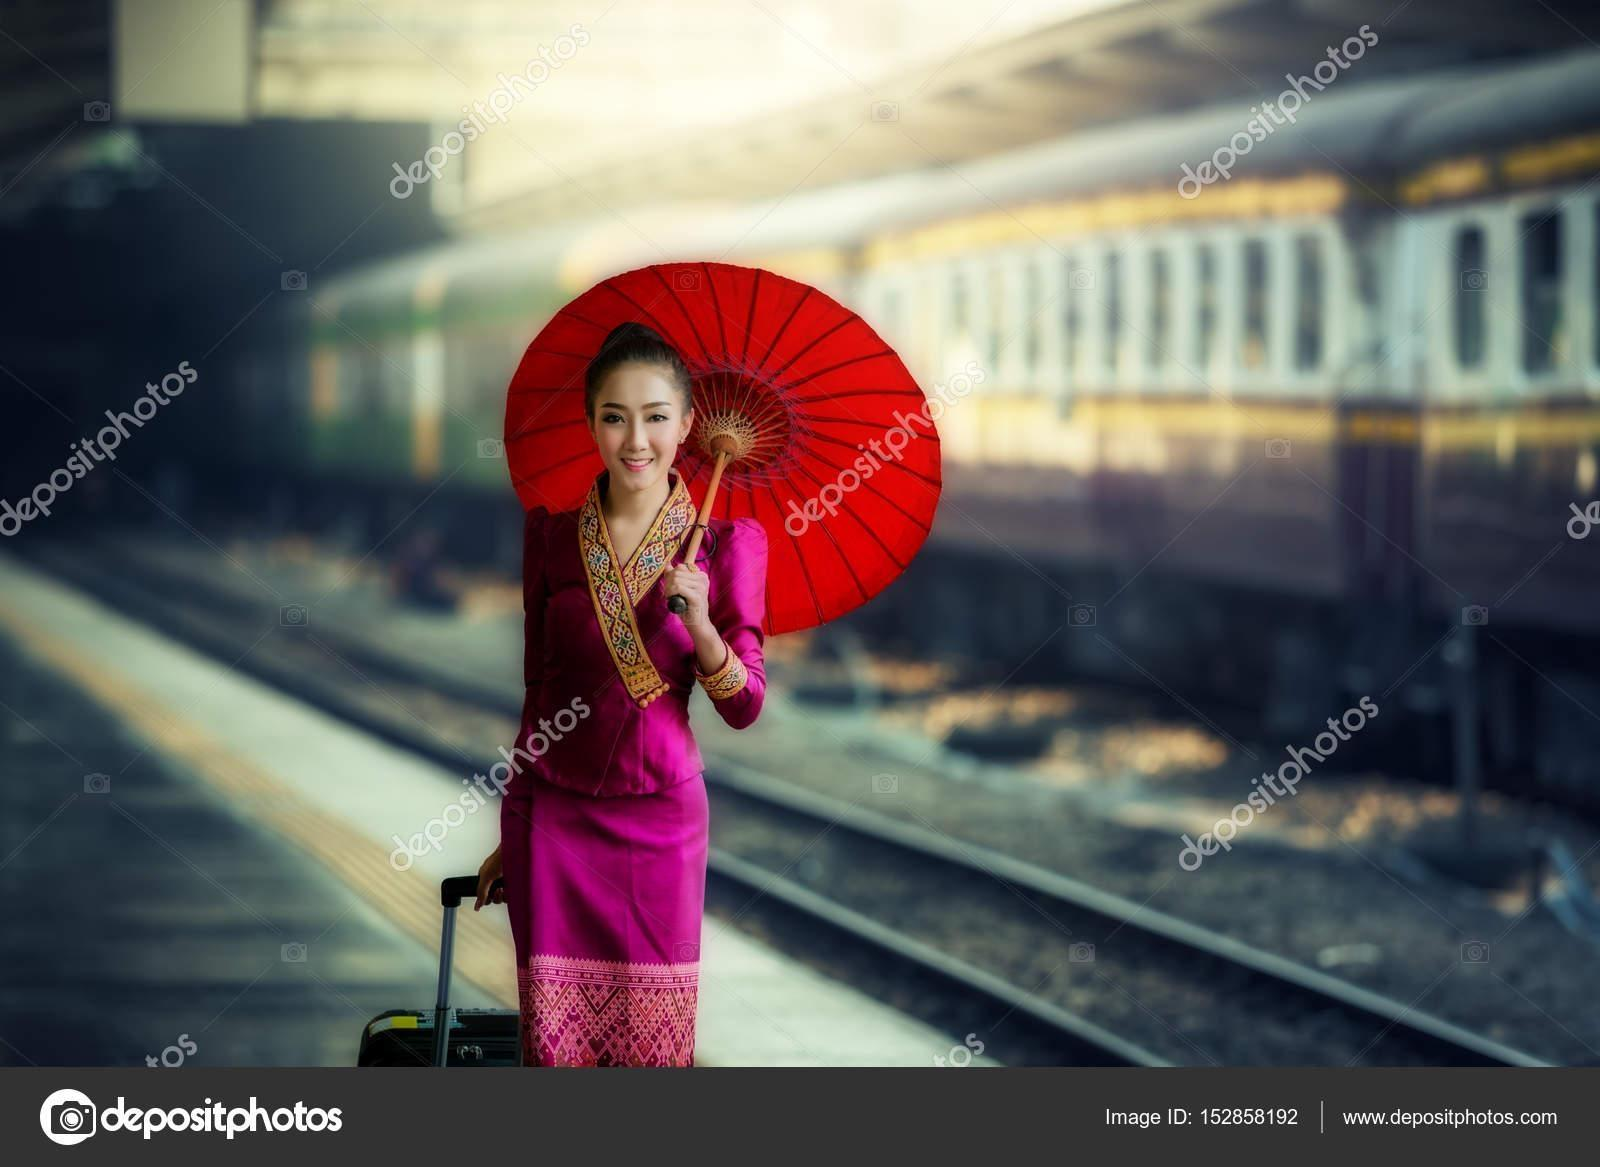Umbrella: (494, 260, 964, 643)
